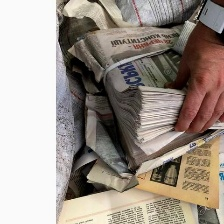news_paper: (76, 23, 224, 173), (131, 134, 224, 210), (55, 179, 189, 224)
